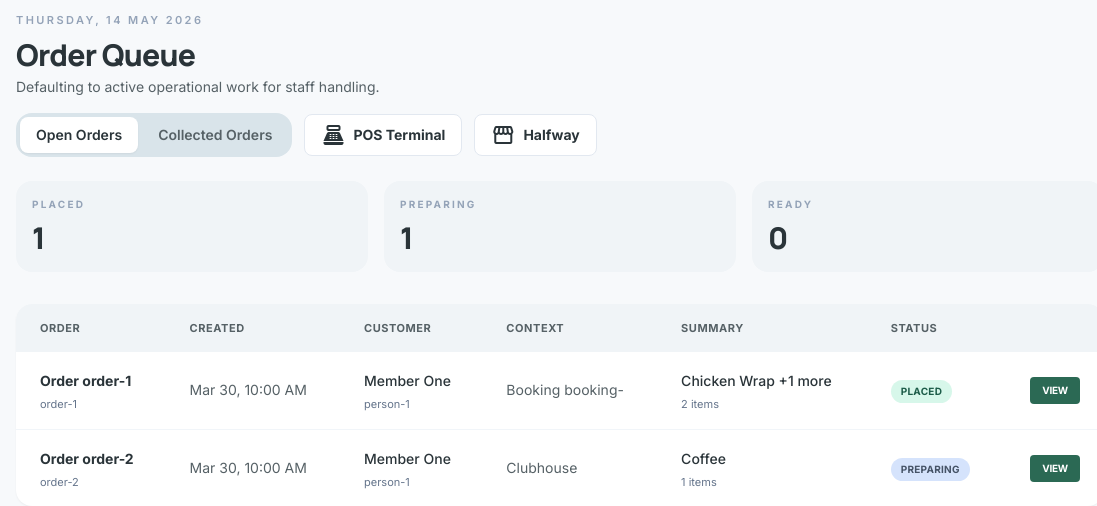
Test: AdminOrderQueuePage › switches to collected orders and shows charge posting status
Click the button "Collected Orders" at [215, 134], box [142,116,288,152]
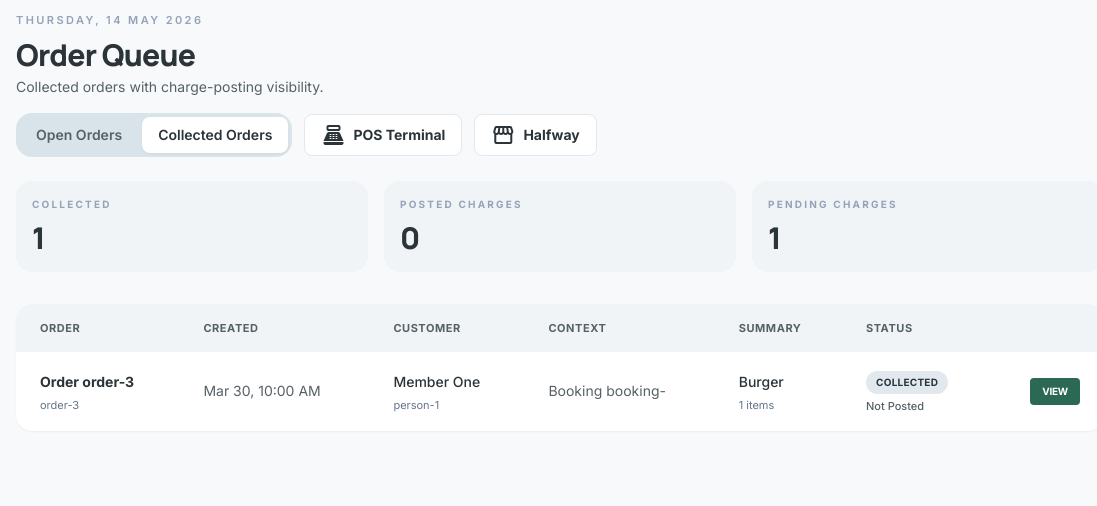
expect the text "Order order-3" is shown: met, box [40,373,134,390]
expect the button "Order order-1" is gone: met
expect the button "Order order-2" is gone: met
